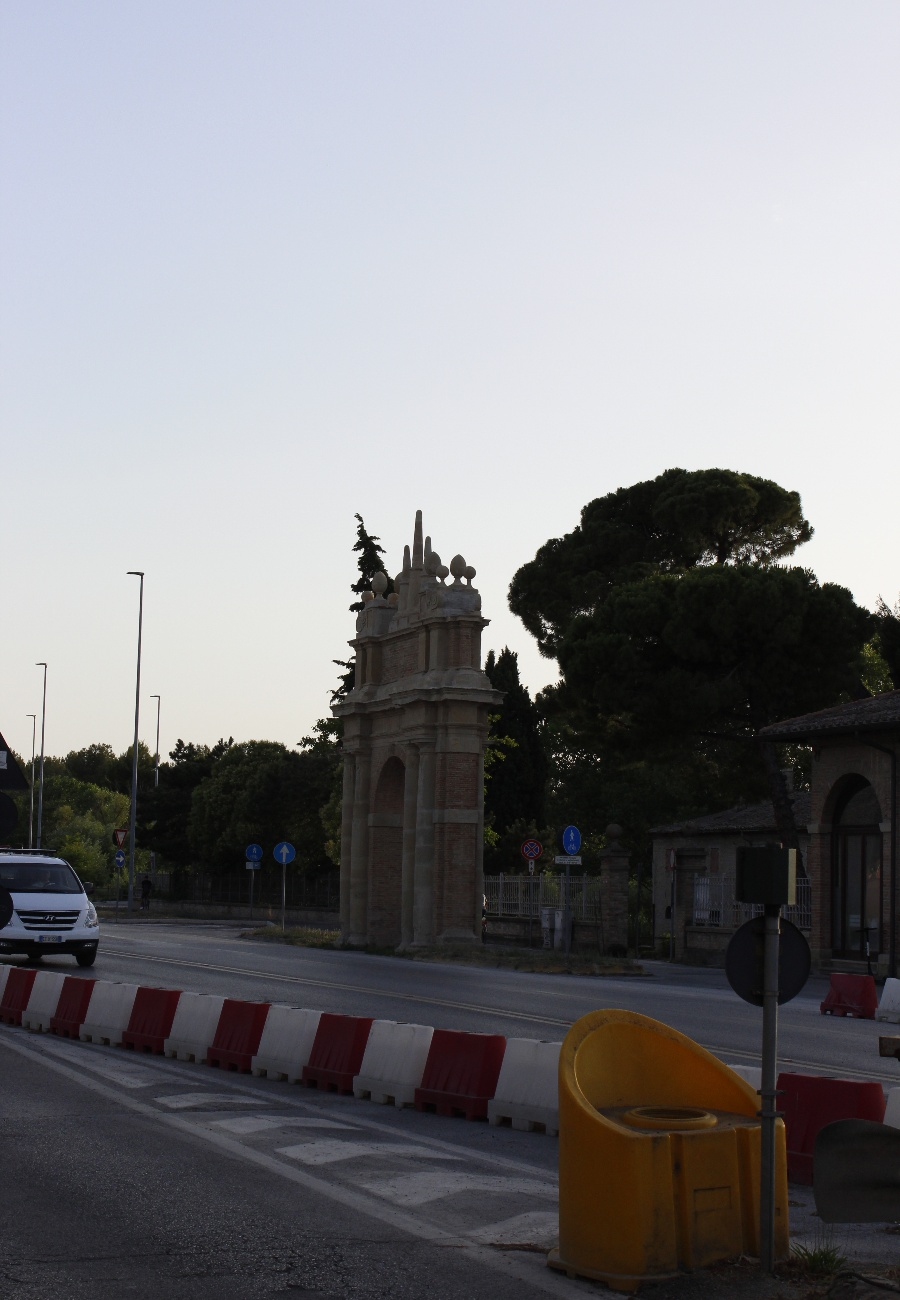Arco di Trionfo: (329, 508, 502, 962)
